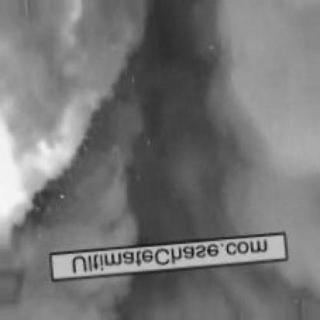Smoke: (14, 15, 317, 313)
